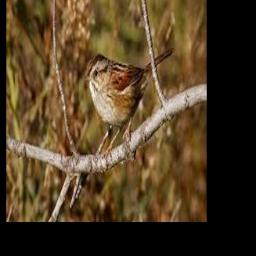Sparrow: (84, 48, 173, 168)
